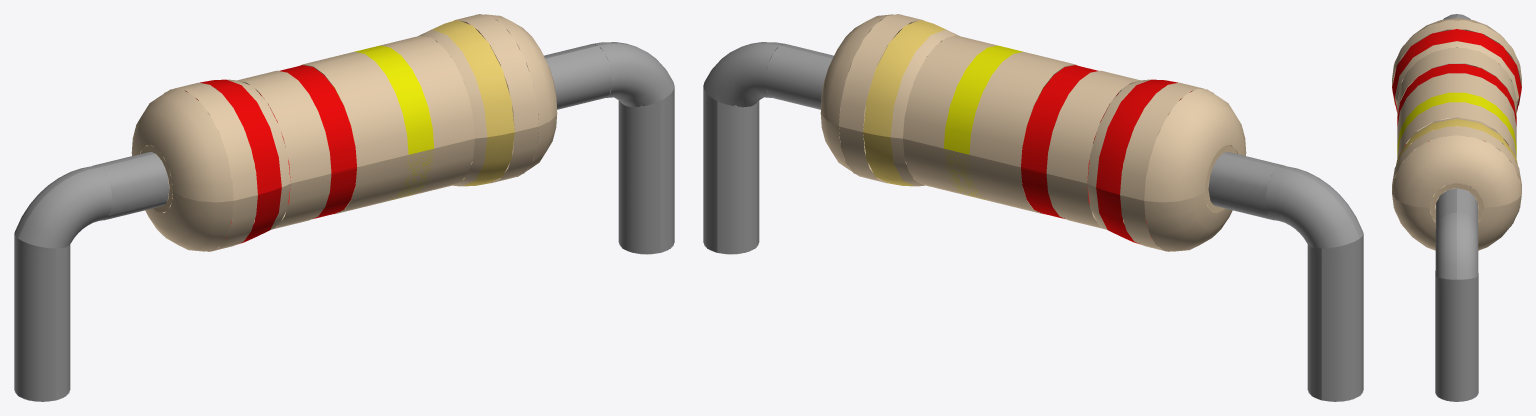
Rendered from 紅紅黃.fbx.
The picture shows the model from 3 angles, left to right: view 1: azimuth 30°, elevation 25°; view 2: azimuth 150°, elevation 25°; view 3: azimuth 270°, elevation 25°; orthographic projection. The views are drawn at different scales.
Parts seen in each view (by area): view 1: nurbsToPoly261; view 2: nurbsToPoly261; view 3: nurbsToPoly261.
Boxes of the visible parts, box(x1,y1,x2,y2) form: nurbsToPoly261: box(14, 14, 674, 401); nurbsToPoly261: box(703, 14, 1363, 401); nurbsToPoly261: box(1392, 14, 1521, 401).
Bounding box in the file's own units: 3.19 × 1.21 × 0.7087.
